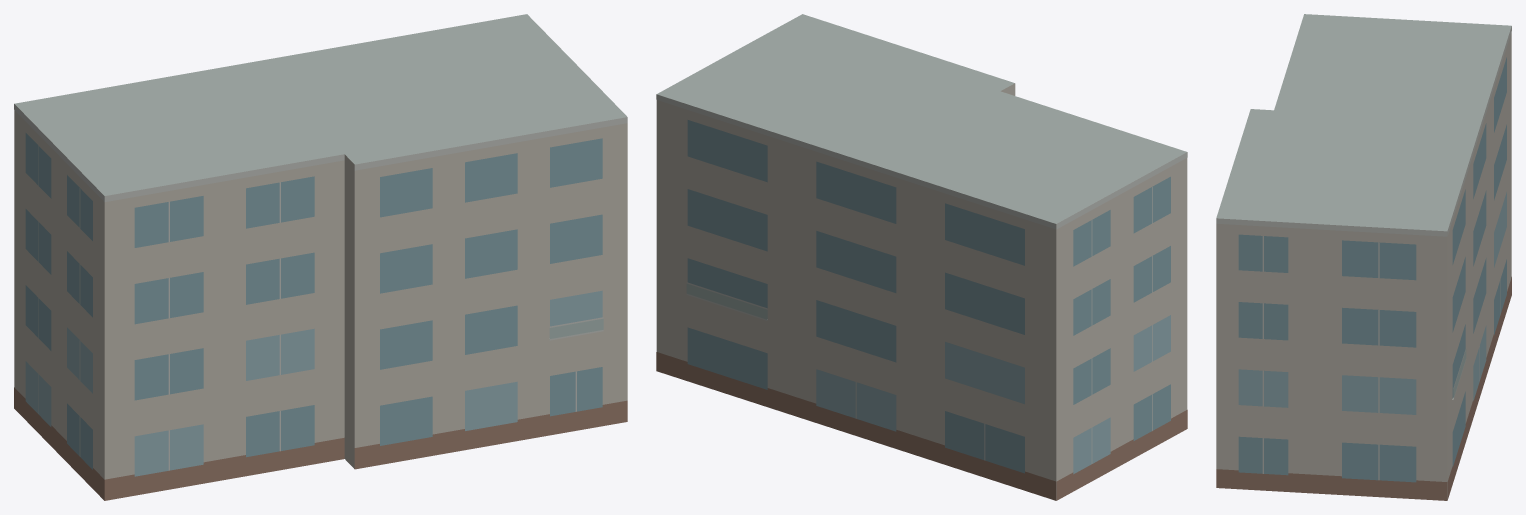
File: residential-b3798598-1af0-4713-87c1-2d4d21981fbc.glb
The picture shows the model from 3 angles, left to right: view 1: azimuth 30°, elevation 25°; view 2: azimuth 150°, elevation 25°; view 3: azimuth 270°, elevation 25°; orthographic projection. The views are drawn at different scales.
Visible parts, largest first — view 1: residential-b3798598-1af0-4713-87c1-2d4d21981fbc.tmp; view 2: residential-b3798598-1af0-4713-87c1-2d4d21981fbc.tmp; view 3: residential-b3798598-1af0-4713-87c1-2d4d21981fbc.tmp.
Part boxes in pixels (left/top/right/bottom): residential-b3798598-1af0-4713-87c1-2d4d21981fbc.tmp: left=14, top=14, right=627, bottom=500; residential-b3798598-1af0-4713-87c1-2d4d21981fbc.tmp: left=656, top=14, right=1187, bottom=500; residential-b3798598-1af0-4713-87c1-2d4d21981fbc.tmp: left=1216, top=14, right=1511, bottom=500.
Size of the model in its own units: 21.1 by 12.2 by 12.13.
